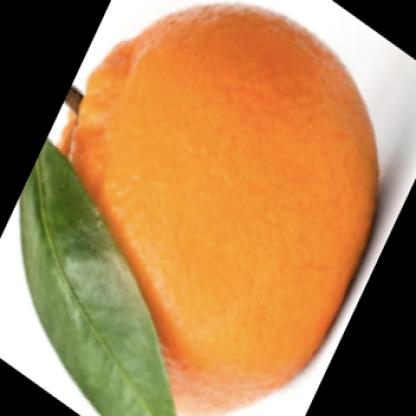fresh: (53, 5, 383, 416)
